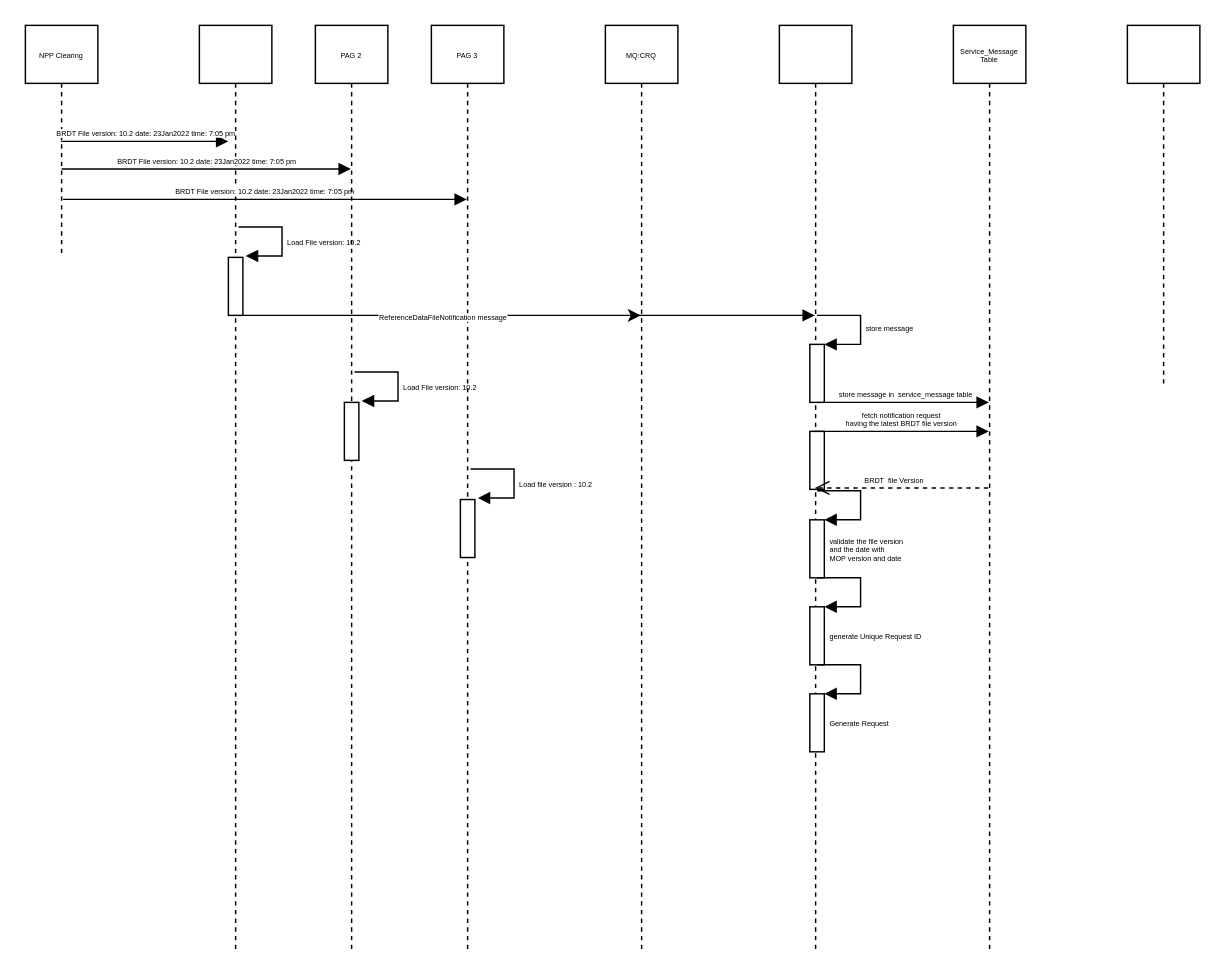
The diagram is 1225 pixels wide and 979 high, and some of its shapes have lost their labels. The box of each missing label's shape, as (x1, y1, x2, y2) in pixels:
GPP: (778, 24, 852, 953)
MQ: CEQ: (1126, 24, 1200, 388)
PAG 1: (198, 24, 272, 953)
